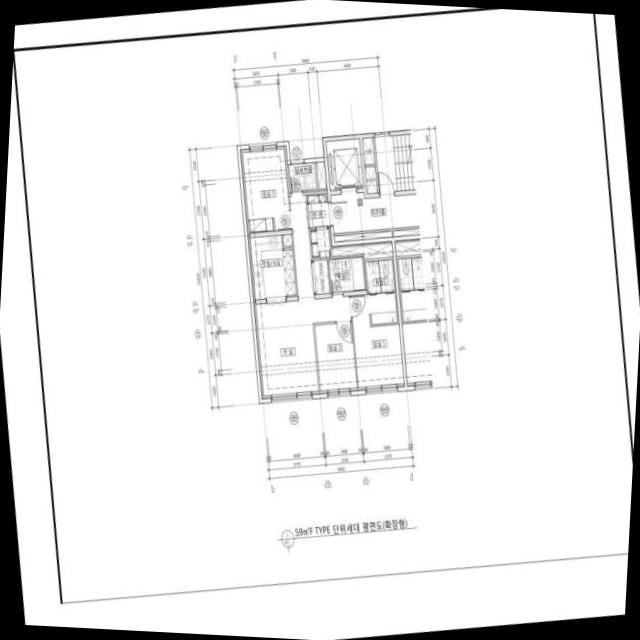background: (0, 0, 640, 640)
space_bedroom: (351, 295, 405, 391), (240, 146, 291, 233), (315, 323, 357, 394)
space_front: (307, 191, 332, 258)
space_kitchen: (248, 235, 297, 300)
space_living_room: (254, 193, 351, 399)
space_other: (332, 242, 393, 259), (313, 260, 329, 294), (317, 162, 326, 188), (283, 234, 293, 246)
space_outdoor_room: (289, 163, 317, 191)
space_toilet: (365, 260, 398, 324), (328, 257, 365, 293)
